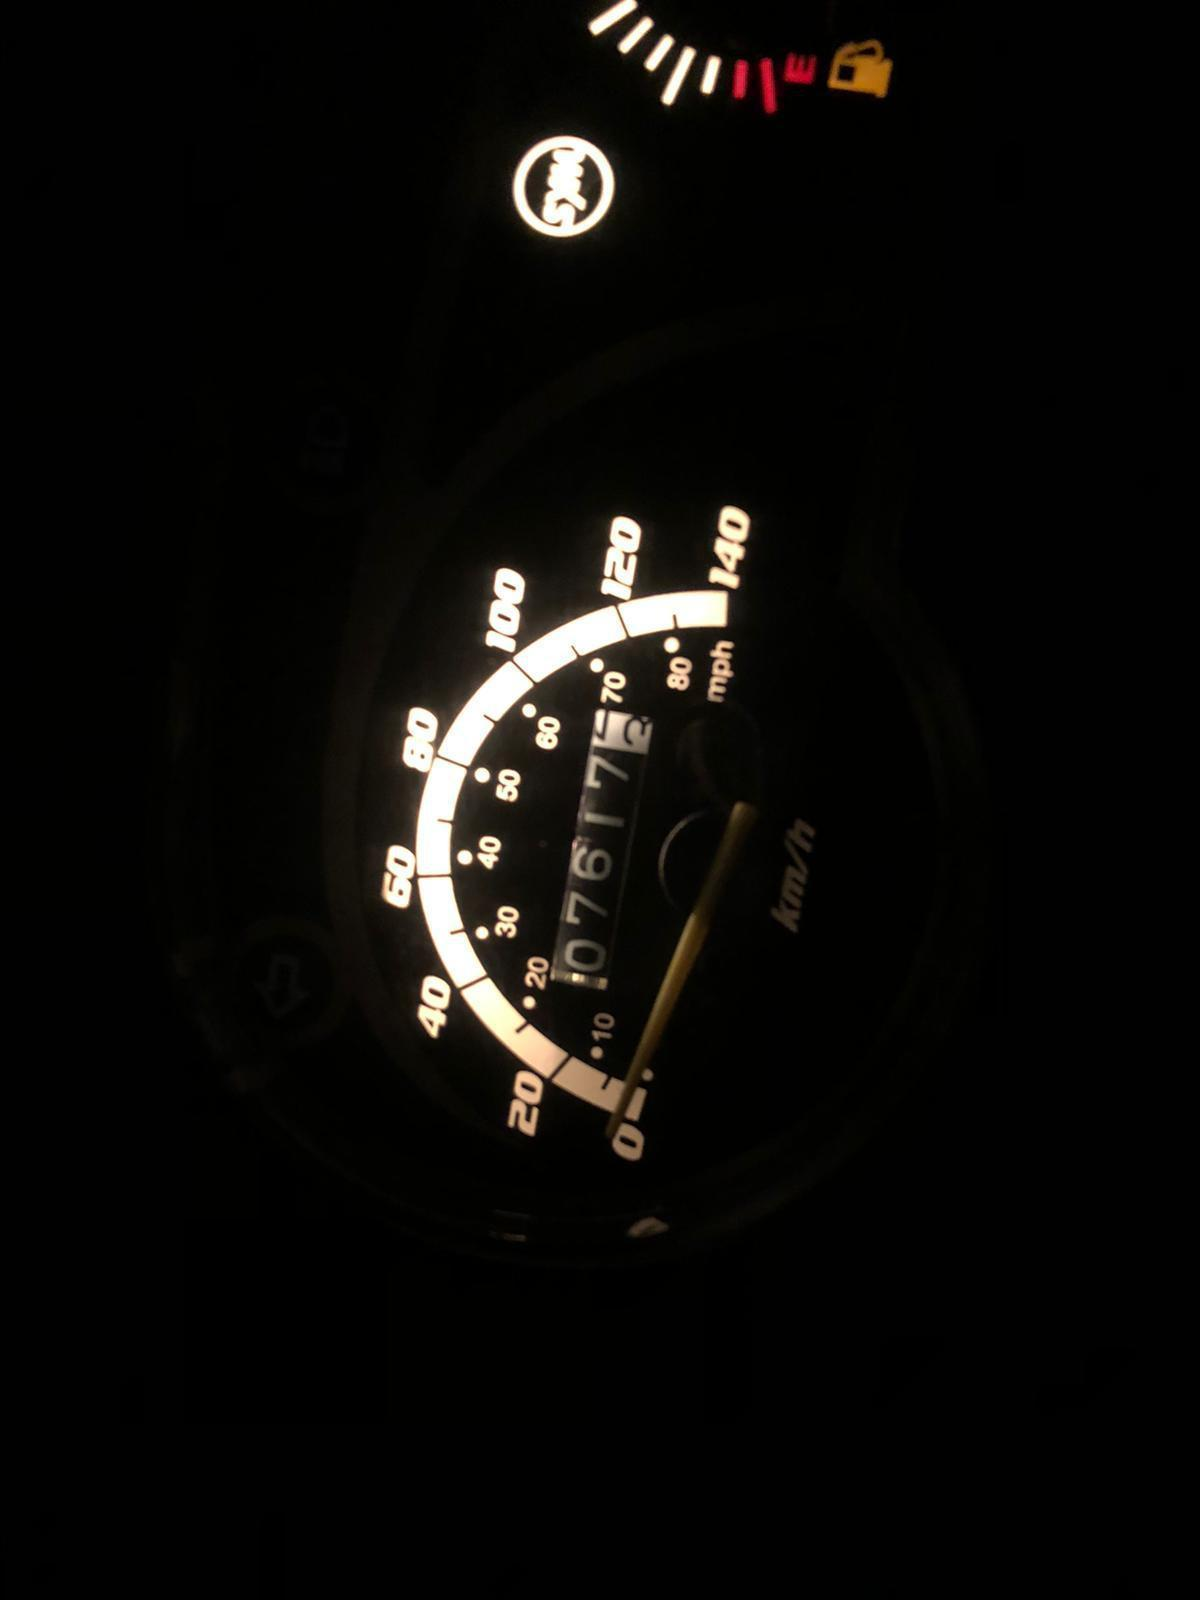0: (558, 937, 613, 976), (534, 716, 561, 733)
1: (580, 804, 626, 831)
3: (615, 711, 655, 751)
6: (565, 842, 616, 879)
7: (581, 752, 629, 791), (561, 887, 609, 923)
odometer: (542, 706, 658, 1003)
